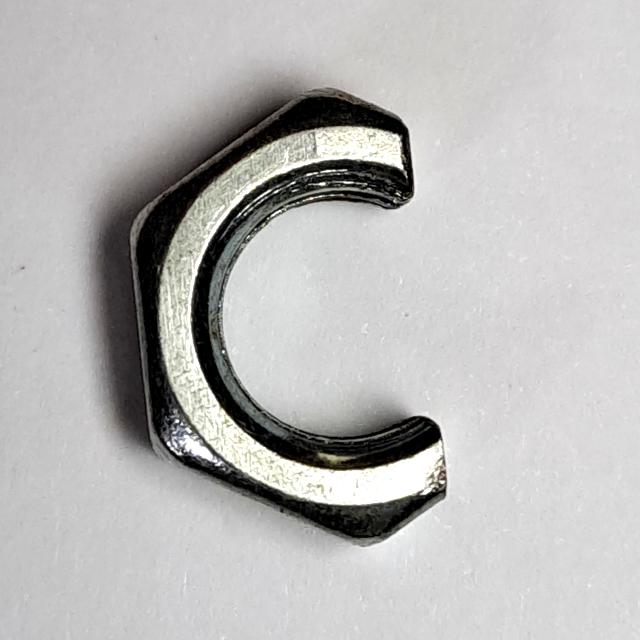Fracture: (109, 64, 483, 569)
